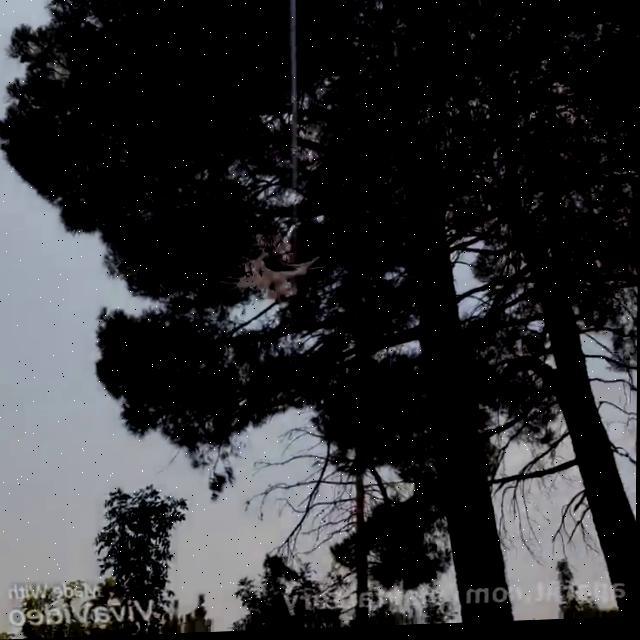drone: (223, 248, 316, 304)
